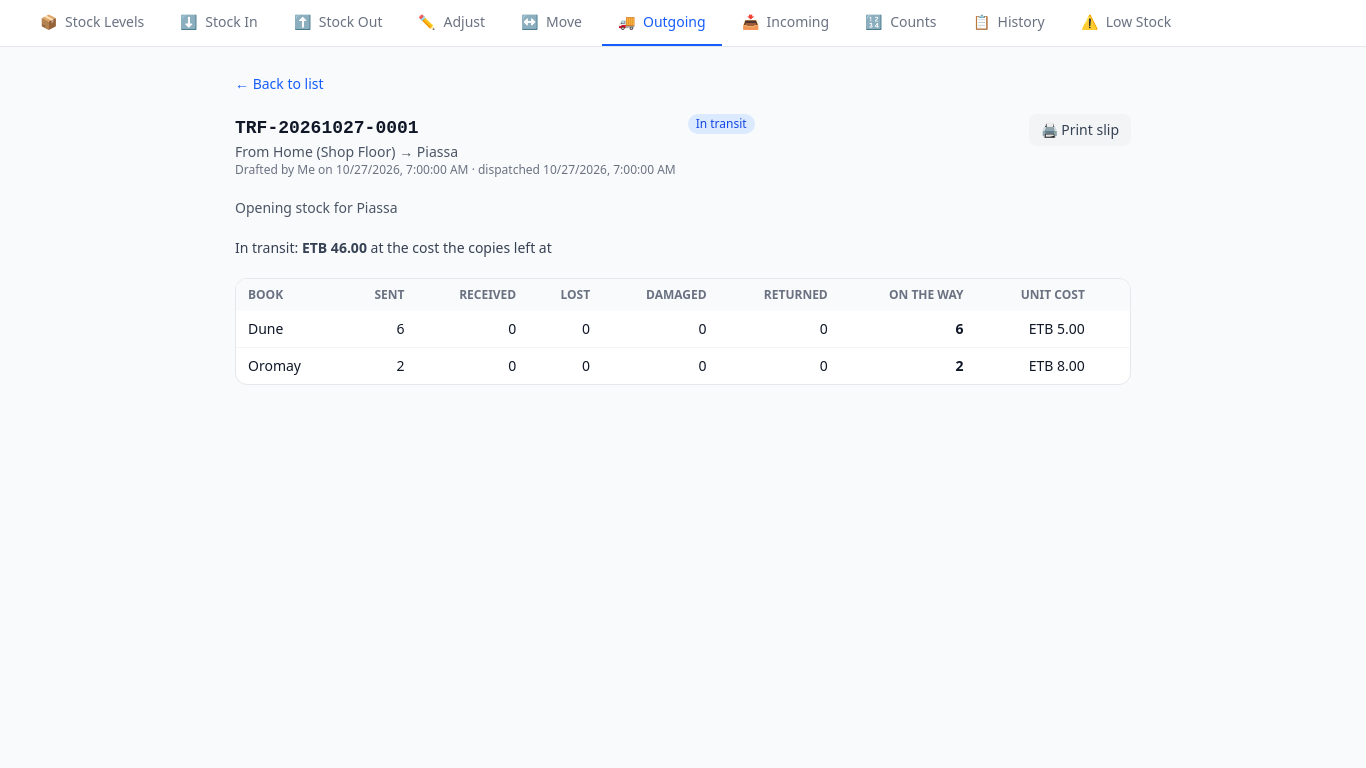
Test: the slip (5a) › goes with the books: number, both branches, books, quantities and signatures
The image size is (1366, 768).
Expected: the heading "TRF-20261027-0001" is shown, 235,118 -> 419,138
What coordinates should you click on to do the following:
click the button "🖨 Print slip"
I would click on:
 (1080, 130)
Its box is 1029,114 -> 1131,146.
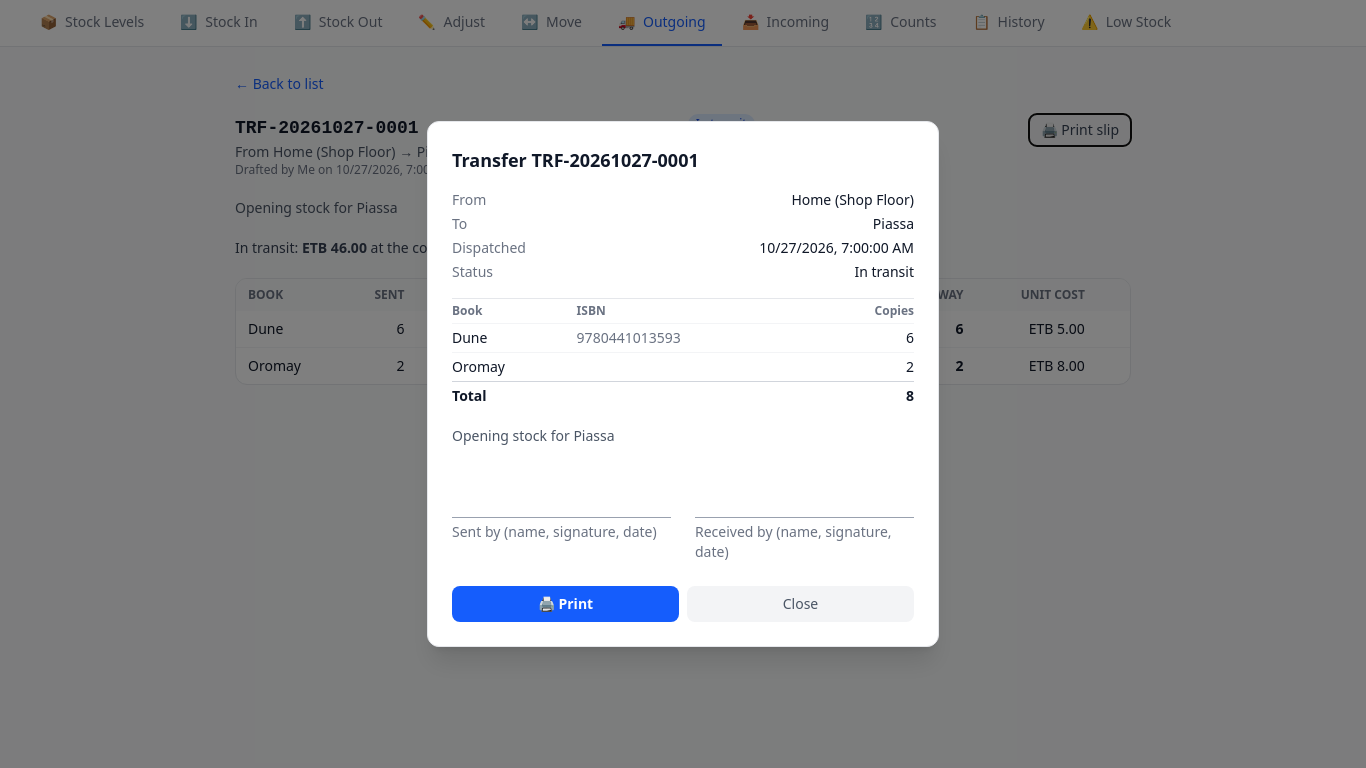
Now the text "Piassa" is shown, box 873,214 -> 914,234
Now the text "Dune" is shown, box 452,324 -> 577,352
Now the text "Oromay" is shown, box 452,352 -> 577,382
